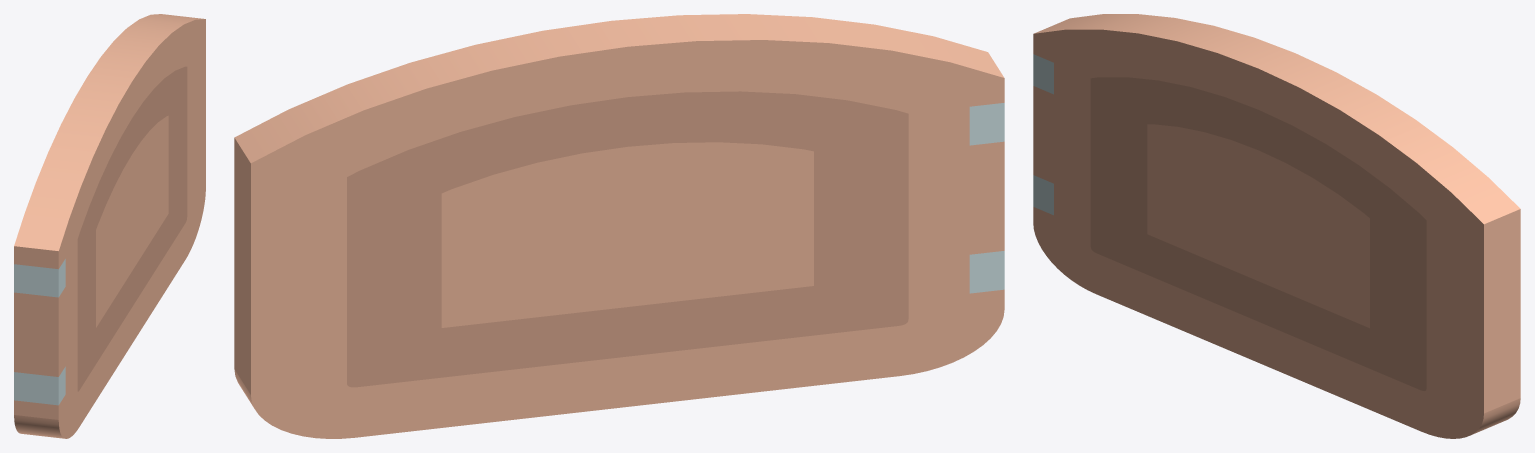
Rendered from crafted-gate-leaf-2.glb.
3 views of the same model, side by side, from view 1: azimuth 30°, elevation 25°; view 2: azimuth 150°, elevation 25°; view 3: azimuth 270°, elevation 25° (orthographic). The views are drawn at different scales.
Parts seen in each view (by area): view 1: leaf-0, leaf-2, leaf-1; view 2: leaf-0, leaf-2, leaf-1; view 3: leaf-0, leaf-2, leaf-1.
Part boxes in pixels (bbox=[...]): leaf-0: bbox=[14, 14, 205, 438]; leaf-2: bbox=[77, 66, 187, 391]; leaf-1: bbox=[14, 259, 65, 405]; leaf-0: bbox=[234, 14, 1004, 438]; leaf-2: bbox=[347, 91, 908, 387]; leaf-1: bbox=[969, 103, 1004, 293]; leaf-0: bbox=[1033, 14, 1520, 438]; leaf-2: bbox=[1090, 77, 1426, 390]; leaf-1: bbox=[1033, 54, 1053, 215].
Bounding box in the file's own units: 0.6576 × 0.438 × 0.6576.
